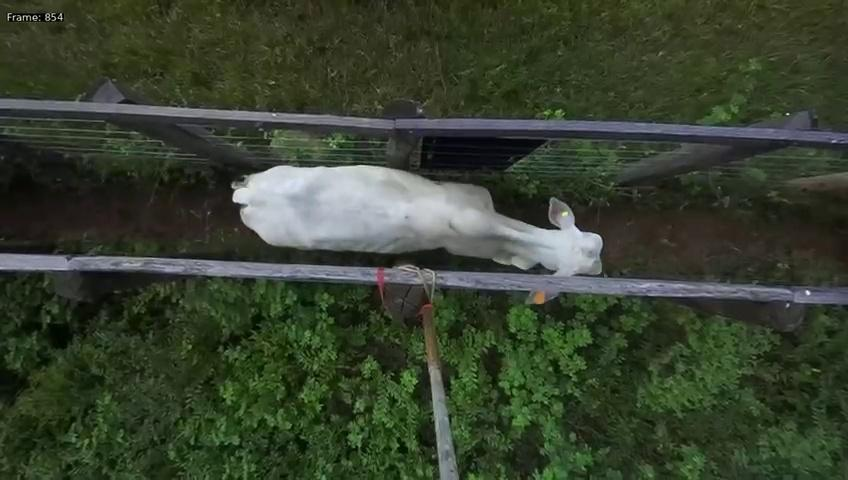cattle: (212, 155, 605, 282)
